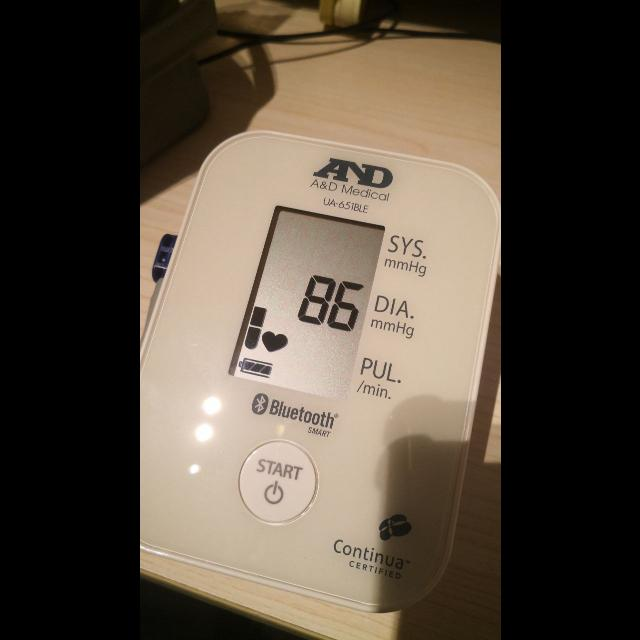Blood-Pressure-Monitor: (140, 129, 500, 611)
